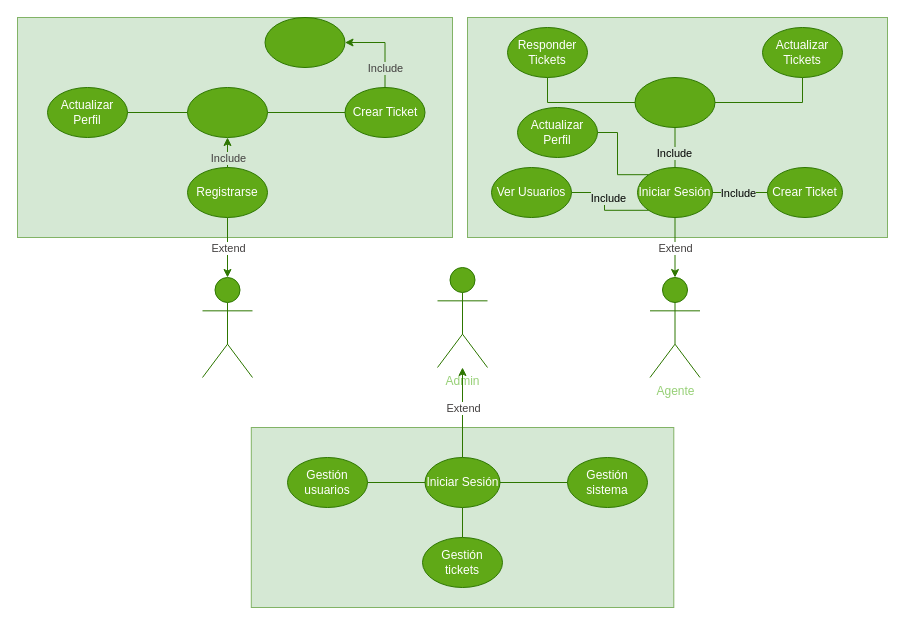
This 905x625 diagram has some shape labels left out. Each missing label, with the centre of its shape:
Cliente: (227,327)
Suscribirse: (227,112)
Ver sus tickets: (304,42)
Ver Tickets: (674,102)
